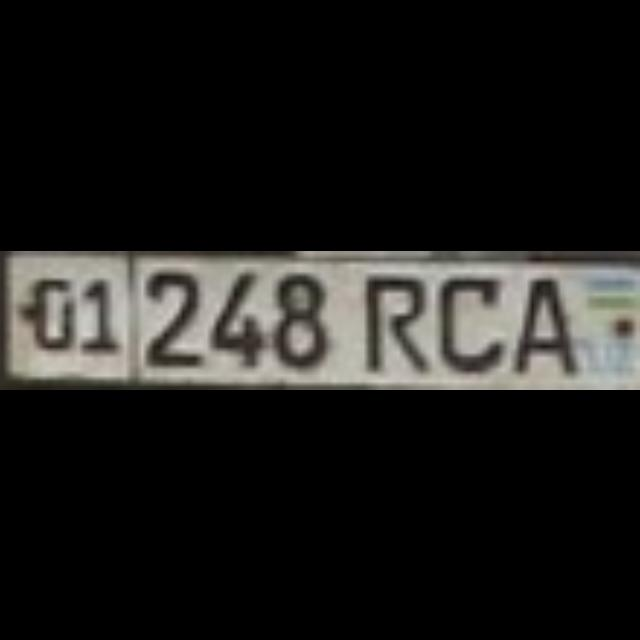0: (24, 267, 64, 343)
1: (70, 267, 110, 343)
2: (134, 262, 192, 361)
4: (198, 262, 256, 361)
8: (262, 262, 314, 361)
A: (506, 268, 564, 366)
C: (431, 268, 495, 366)
R: (355, 262, 419, 361)
